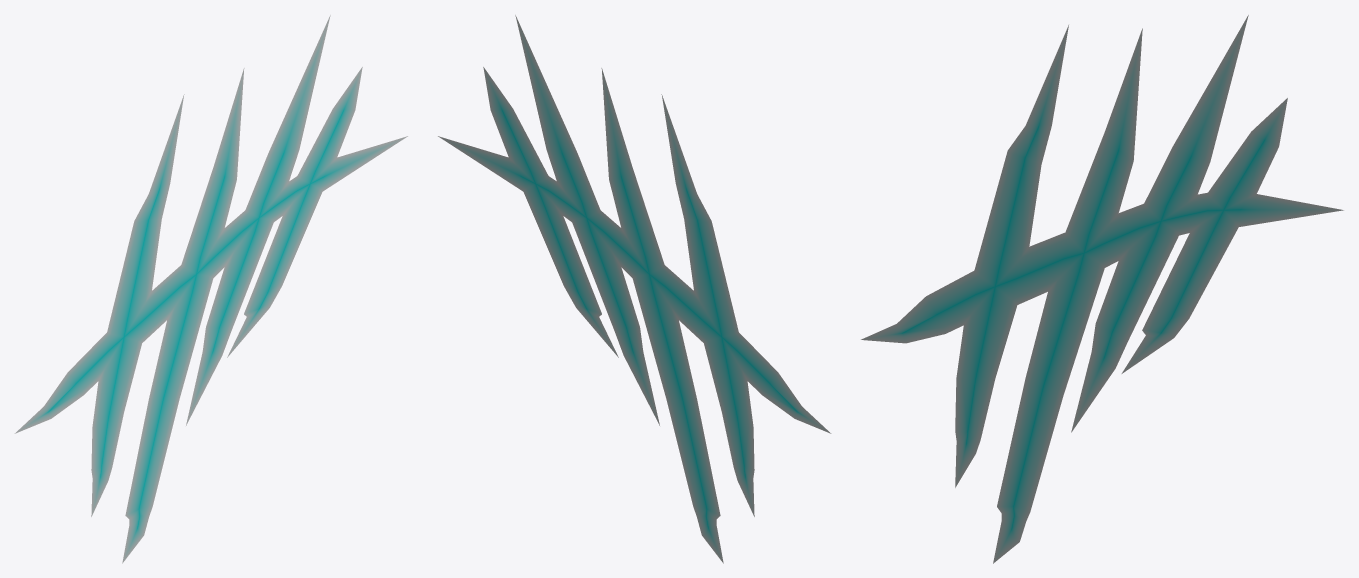
File: SM_EFF_Text_D27NJ2_01.glb
The picture shows the model from 3 angles, left to right: view 1: azimuth 30°, elevation 25°; view 2: azimuth 150°, elevation 25°; view 3: azimuth 330°, elevation 25°; orthographic projection. The views are drawn at different scales.
Visible parts, largest first — view 1: SM_EFF_Text_D27NJ2_01; view 2: SM_EFF_Text_D27NJ2_01; view 3: SM_EFF_Text_D27NJ2_01.
Part boxes in pixels (x1,y1,x2,y2): SM_EFF_Text_D27NJ2_01: [14, 15, 407, 563]; SM_EFF_Text_D27NJ2_01: [438, 15, 831, 563]; SM_EFF_Text_D27NJ2_01: [861, 15, 1343, 563].
Size of the model in its own units: 0.7898 by 0.9544 by 3.98e-12.
